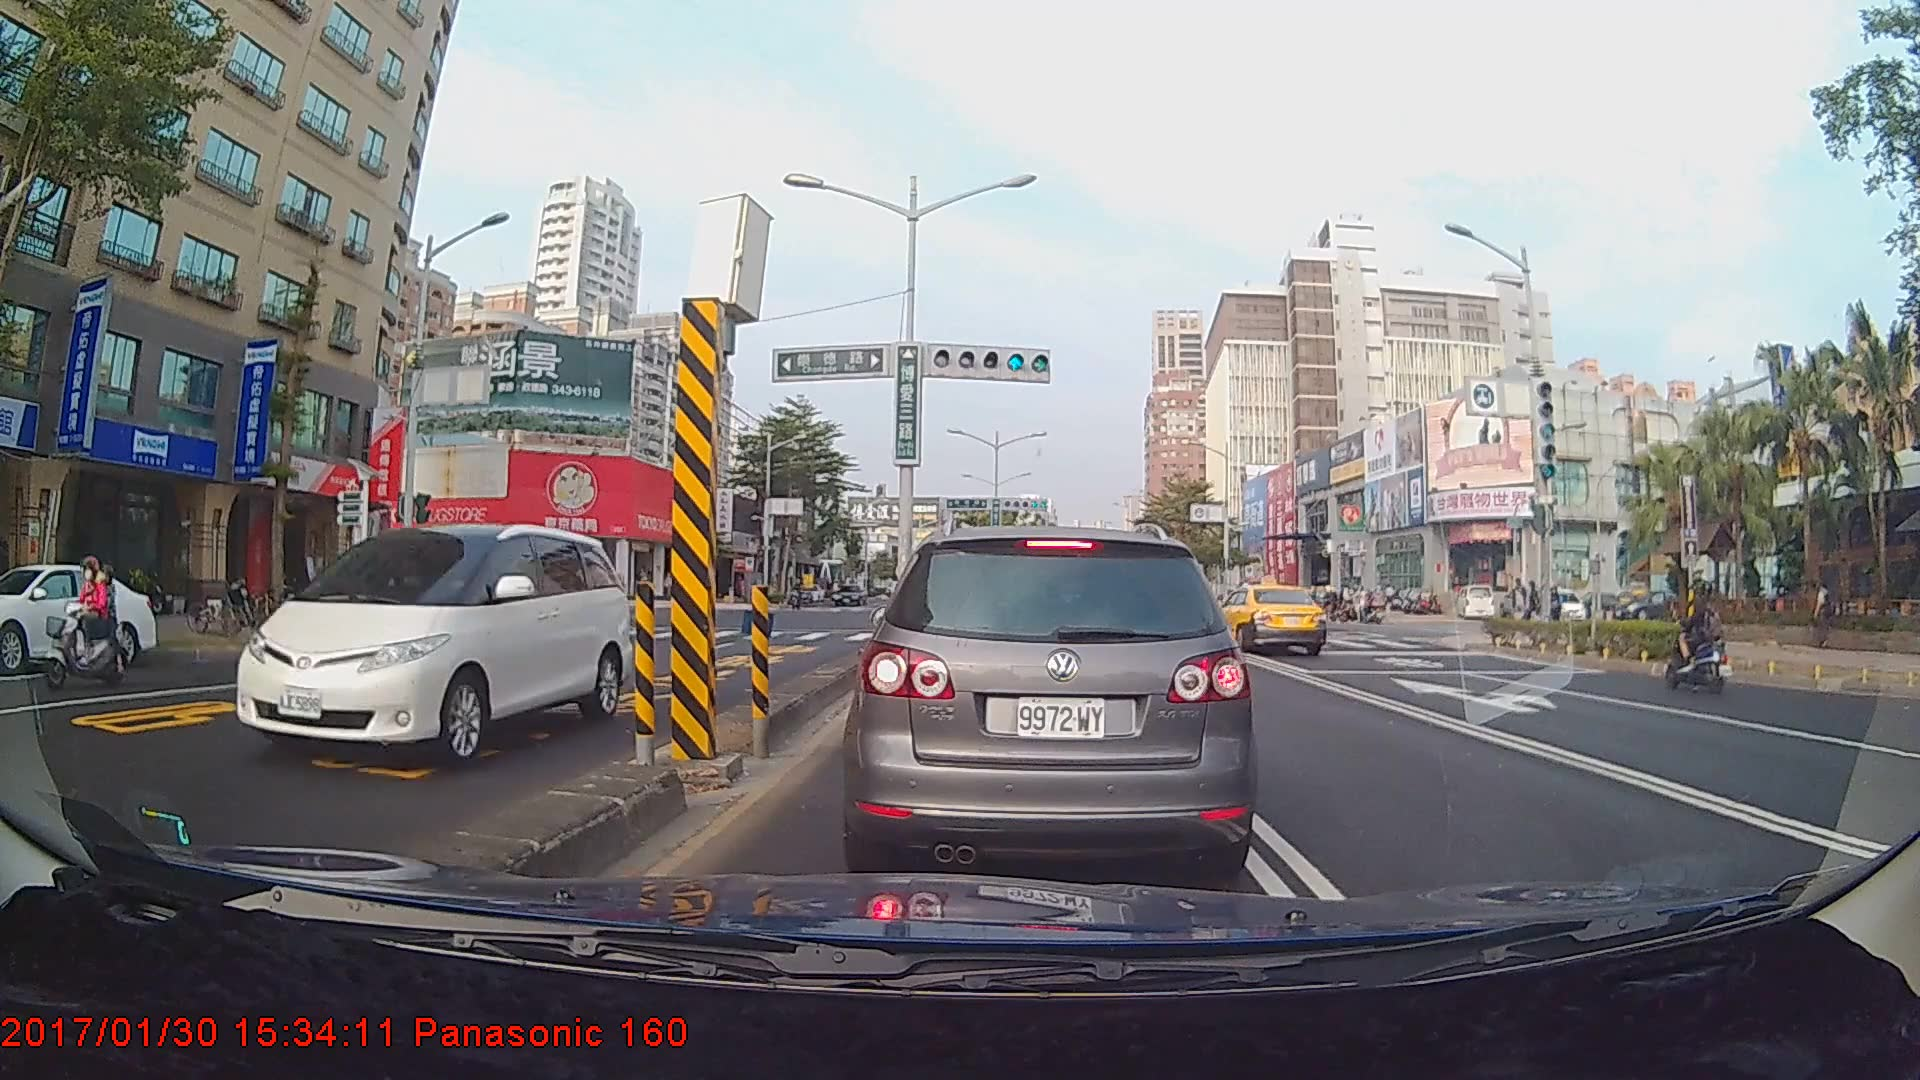pedestrian: (1812, 579, 1837, 648)
rider: (41, 557, 130, 694), (1661, 579, 1742, 698)
vehicle: (857, 520, 1249, 874), (232, 520, 635, 758), (0, 561, 158, 671), (1208, 581, 1327, 657)
